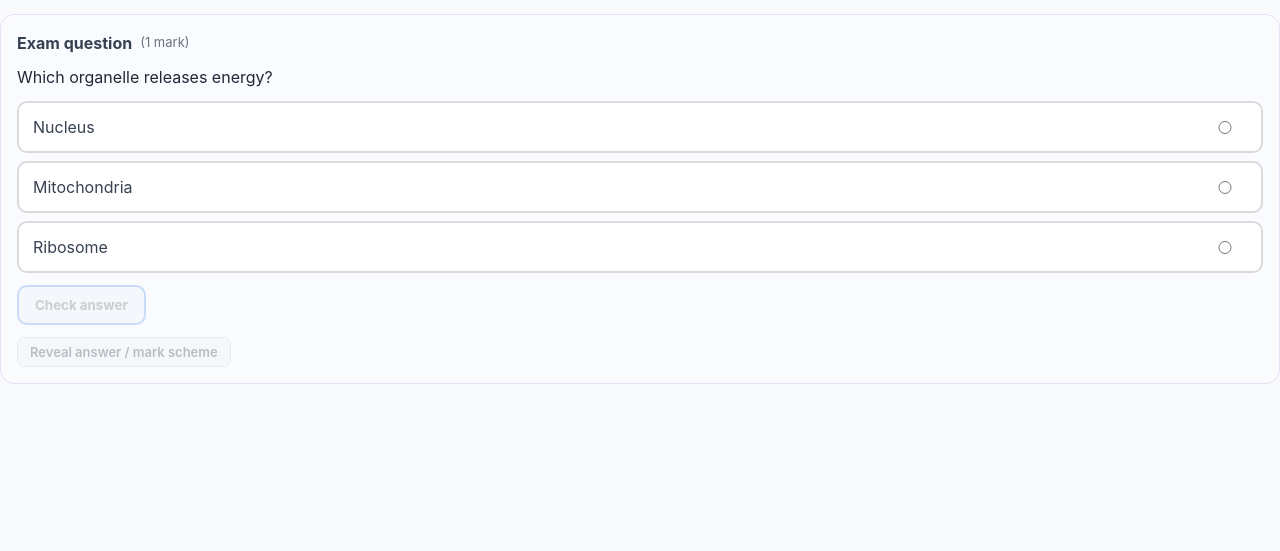
Test: ExamQuestionBlock single question marking › single MCQ marks correct answer 1/1 with shared feedback panel
Click the button "Mitochondria". click: (83, 187)
box: [17,161,1263,213]
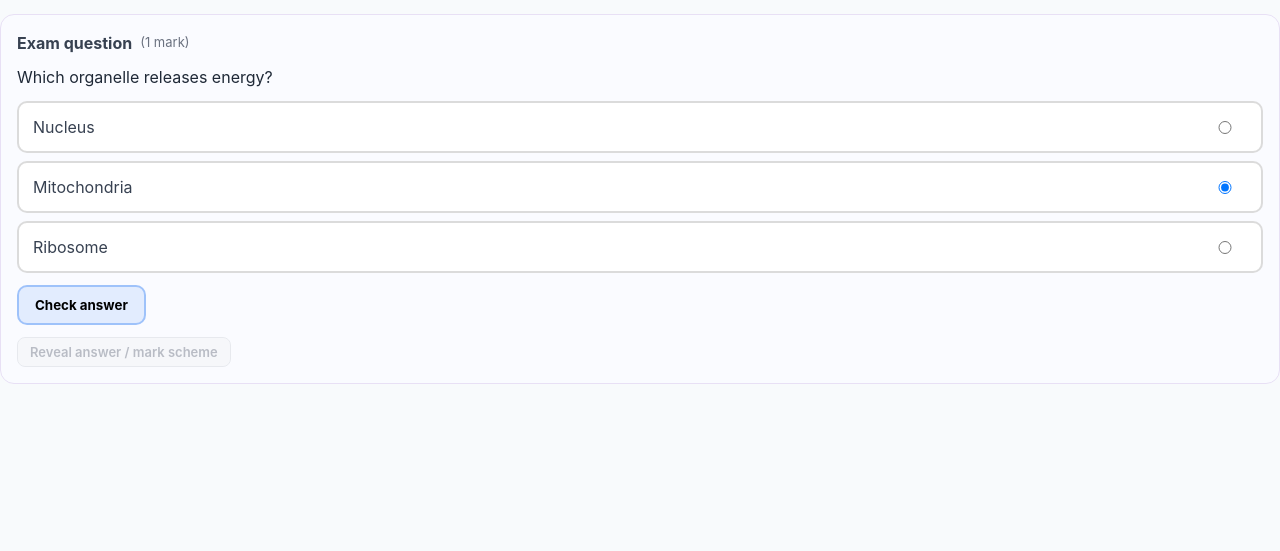
Click the button "Check answer". click: (81, 305)
box: [17,285,146,325]
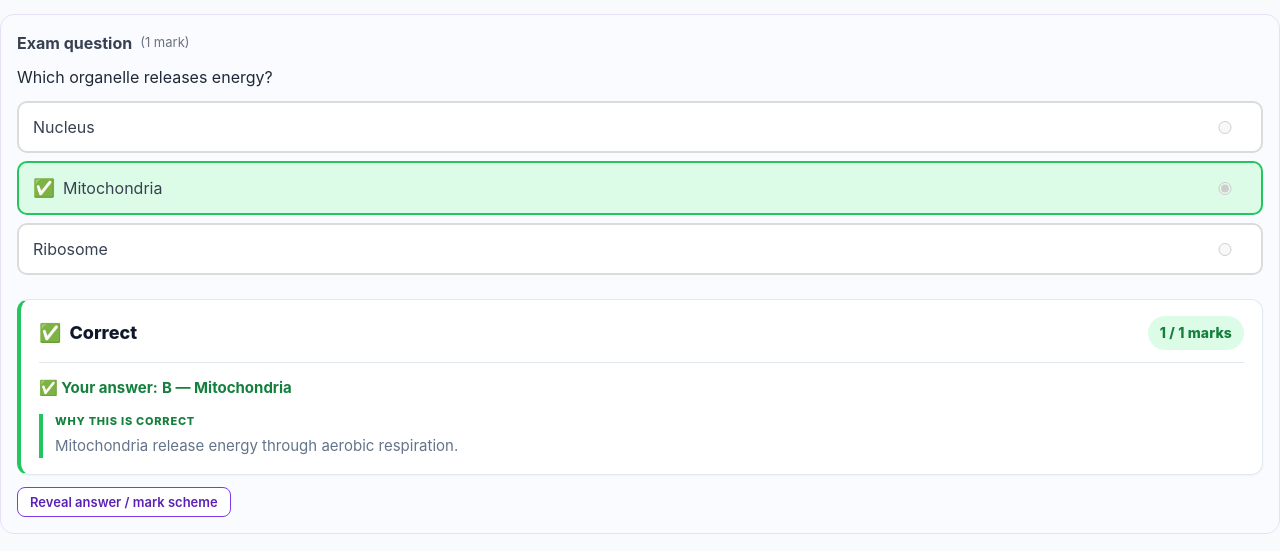
Expected: the element with test id "answer-feedback-hero" shows "Correct", [70,322,137,343]
Expected: the text with test id "answer-feedback-score-badge" reads "1 / 1 marks", [1148,316,1244,350]
